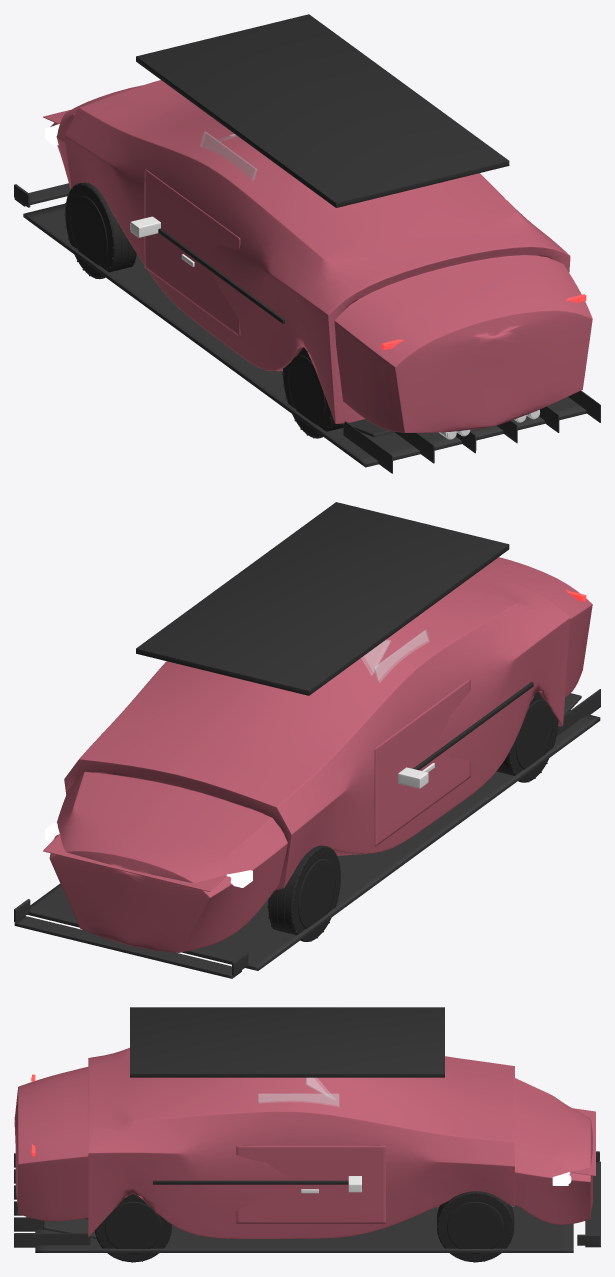
The model's file is vehicle.opt.glb.
The picture shows the model from 3 angles, top to bottom: view 1: azimuth 30°, elevation 25°; view 2: azimuth 150°, elevation 25°; view 3: azimuth 270°, elevation 25°; orthographic projection. The views are drawn at different scales.
Parts seen in each view (by area): view 1: BODY_MainShell, JEWELRY_Caravan_RoofRack, UNDERBODY_FlatFloor, BODY_Door_FL, WHEEL_FL_Tire, WHEEL_RL_Tire, JEWELRY_Hardware, GLASS_Greenhouse, JEWELRY_Caravan_Tracks, AERO_FrontSplitter; view 2: BODY_MainShell, JEWELRY_Caravan_RoofRack, UNDERBODY_FlatFloor, BODY_Door_FL, WHEEL_FL_Tire, AERO_FrontSplitter, WHEEL_RL_Tire, GLASS_Greenhouse, BODY_Hood, JEWELRY_Caravan_Tracks; view 3: BODY_MainShell, JEWELRY_Caravan_RoofRack, UNDERBODY_FlatFloor, BODY_Door_FR, WHEEL_FR_Tire, WHEEL_RR_Tire, GLASS_Greenhouse, AERO_FrontSplitter, JEWELRY_Caravan_Tracks, BODY_Hood.
Part boxes in pixels (x1=…): BODY_MainShell: x1=50, y1=80, x2=592, y2=432; JEWELRY_Caravan_RoofRack: x1=136, y1=14, x2=509, y2=207; UNDERBODY_FlatFloor: x1=23, y1=203, x2=600, y2=473; BODY_Door_FL: x1=144, y1=169, x2=240, y2=336; WHEEL_FL_Tire: x1=64, y1=182, x2=136, y2=279; WHEEL_RL_Tire: x1=282, y1=347, x2=343, y2=438; JEWELRY_Hardware: x1=130, y1=216, x2=540, y2=439; GLASS_Greenhouse: x1=200, y1=131, x2=257, y2=180; JEWELRY_Caravan_Tracks: x1=158, y1=228, x2=284, y2=323; AERO_FrontSplitter: x1=14, y1=183, x2=70, y2=207; BODY_MainShell: x1=49, y1=557, x2=592, y2=952; JEWELRY_Caravan_RoofRack: x1=136, y1=502, x2=509, y2=695; UNDERBODY_FlatFloor: x1=27, y1=689, x2=600, y2=970; BODY_Door_FL: x1=374, y1=678, x2=470, y2=846; WHEEL_FL_Tire: x1=267, y1=845, x2=341, y2=941; AERO_FrontSplitter: x1=14, y1=899, x2=248, y2=978; WHEEL_RL_Tire: x1=496, y1=691, x2=558, y2=782; GLASS_Greenhouse: x1=361, y1=629, x2=429, y2=682; BODY_Hood: x1=43, y1=833, x2=226, y2=891; JEWELRY_Caravan_Tracks: x1=413, y1=682, x2=533, y2=770; BODY_MainShell: x1=14, y1=1048, x2=592, y2=1239; JEWELRY_Caravan_RoofRack: x1=130, y1=1007, x2=444, y2=1077; UNDERBODY_FlatFloor: x1=14, y1=1153, x2=573, y2=1252; BODY_Door_FR: x1=236, y1=1145, x2=385, y2=1223; WHEEL_FR_Tire: x1=437, y1=1191, x2=514, y2=1262; WHEEL_RR_Tire: x1=94, y1=1194, x2=171, y2=1262; GLASS_Greenhouse: x1=258, y1=1077, x2=339, y2=1106; AERO_FrontSplitter: x1=577, y1=1151, x2=600, y2=1247; JEWELRY_Caravan_Tracks: x1=153, y1=1180, x2=348, y2=1184; BODY_Hood: x1=569, y1=1108, x2=595, y2=1175.
Size of what is drawn, in the model's own units: 2.33 by 1.74 by 5.2.
